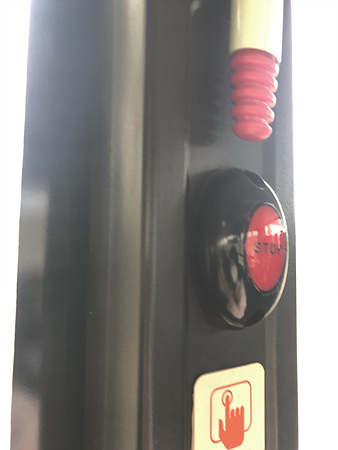bell: (190, 166, 290, 327)
